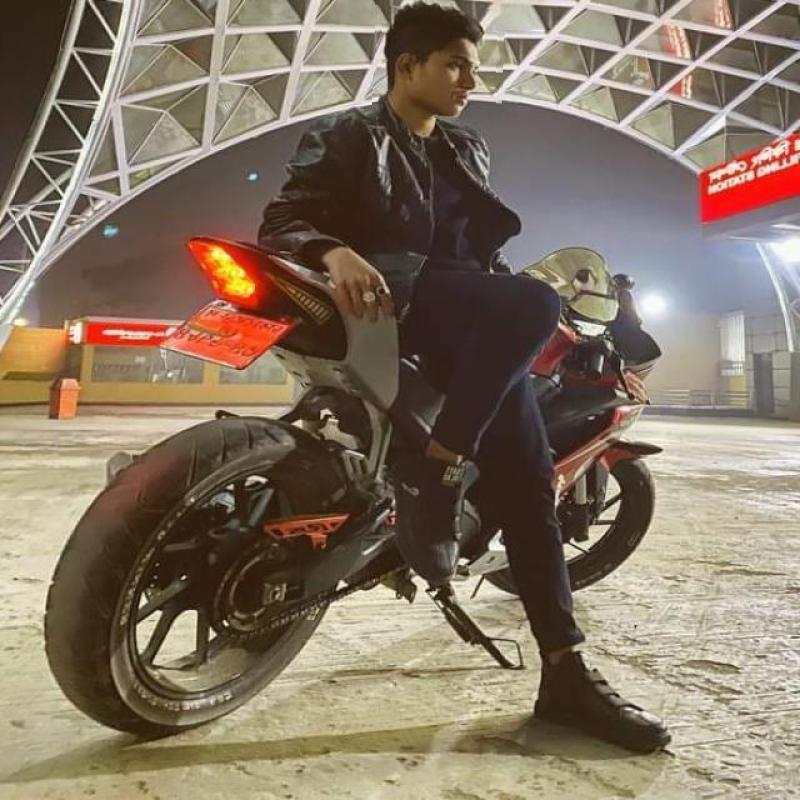nohelmet: (373, 6, 504, 119)
